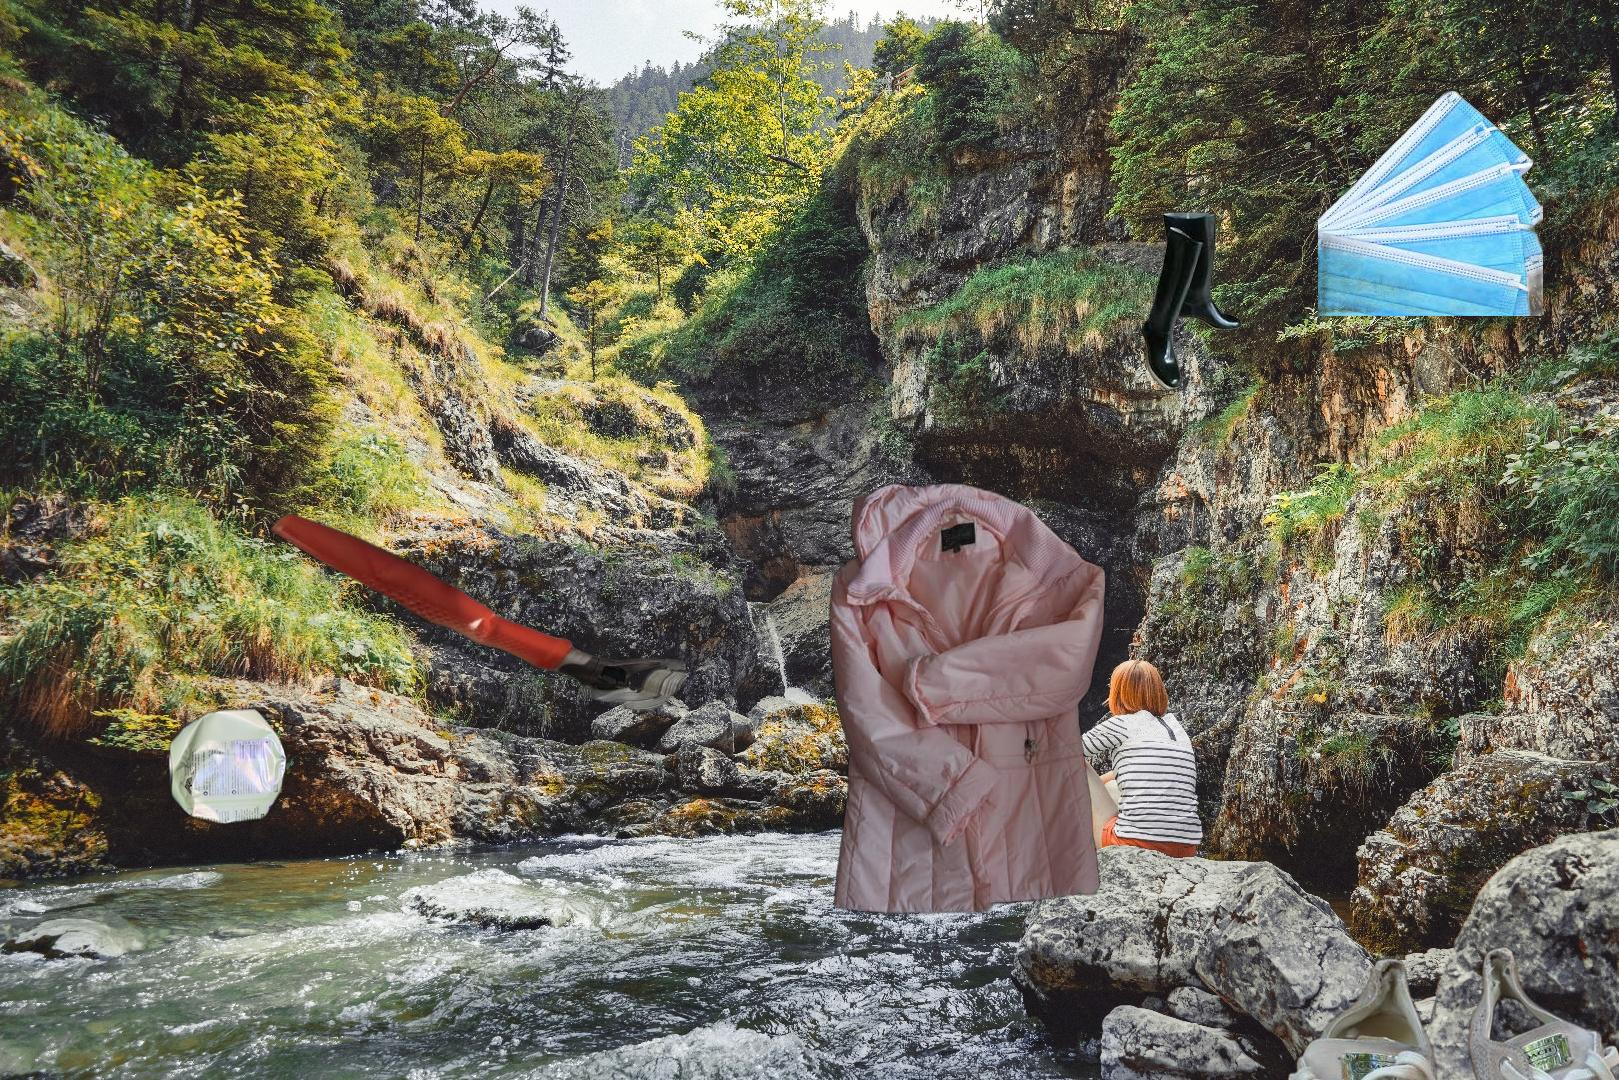clothes: (826, 476, 1109, 920)
metal-cans: (164, 702, 291, 830)
paper: (266, 510, 686, 735)
shoes: (1283, 943, 1619, 1080), (1136, 209, 1245, 392)
trash: (1318, 90, 1543, 316)
